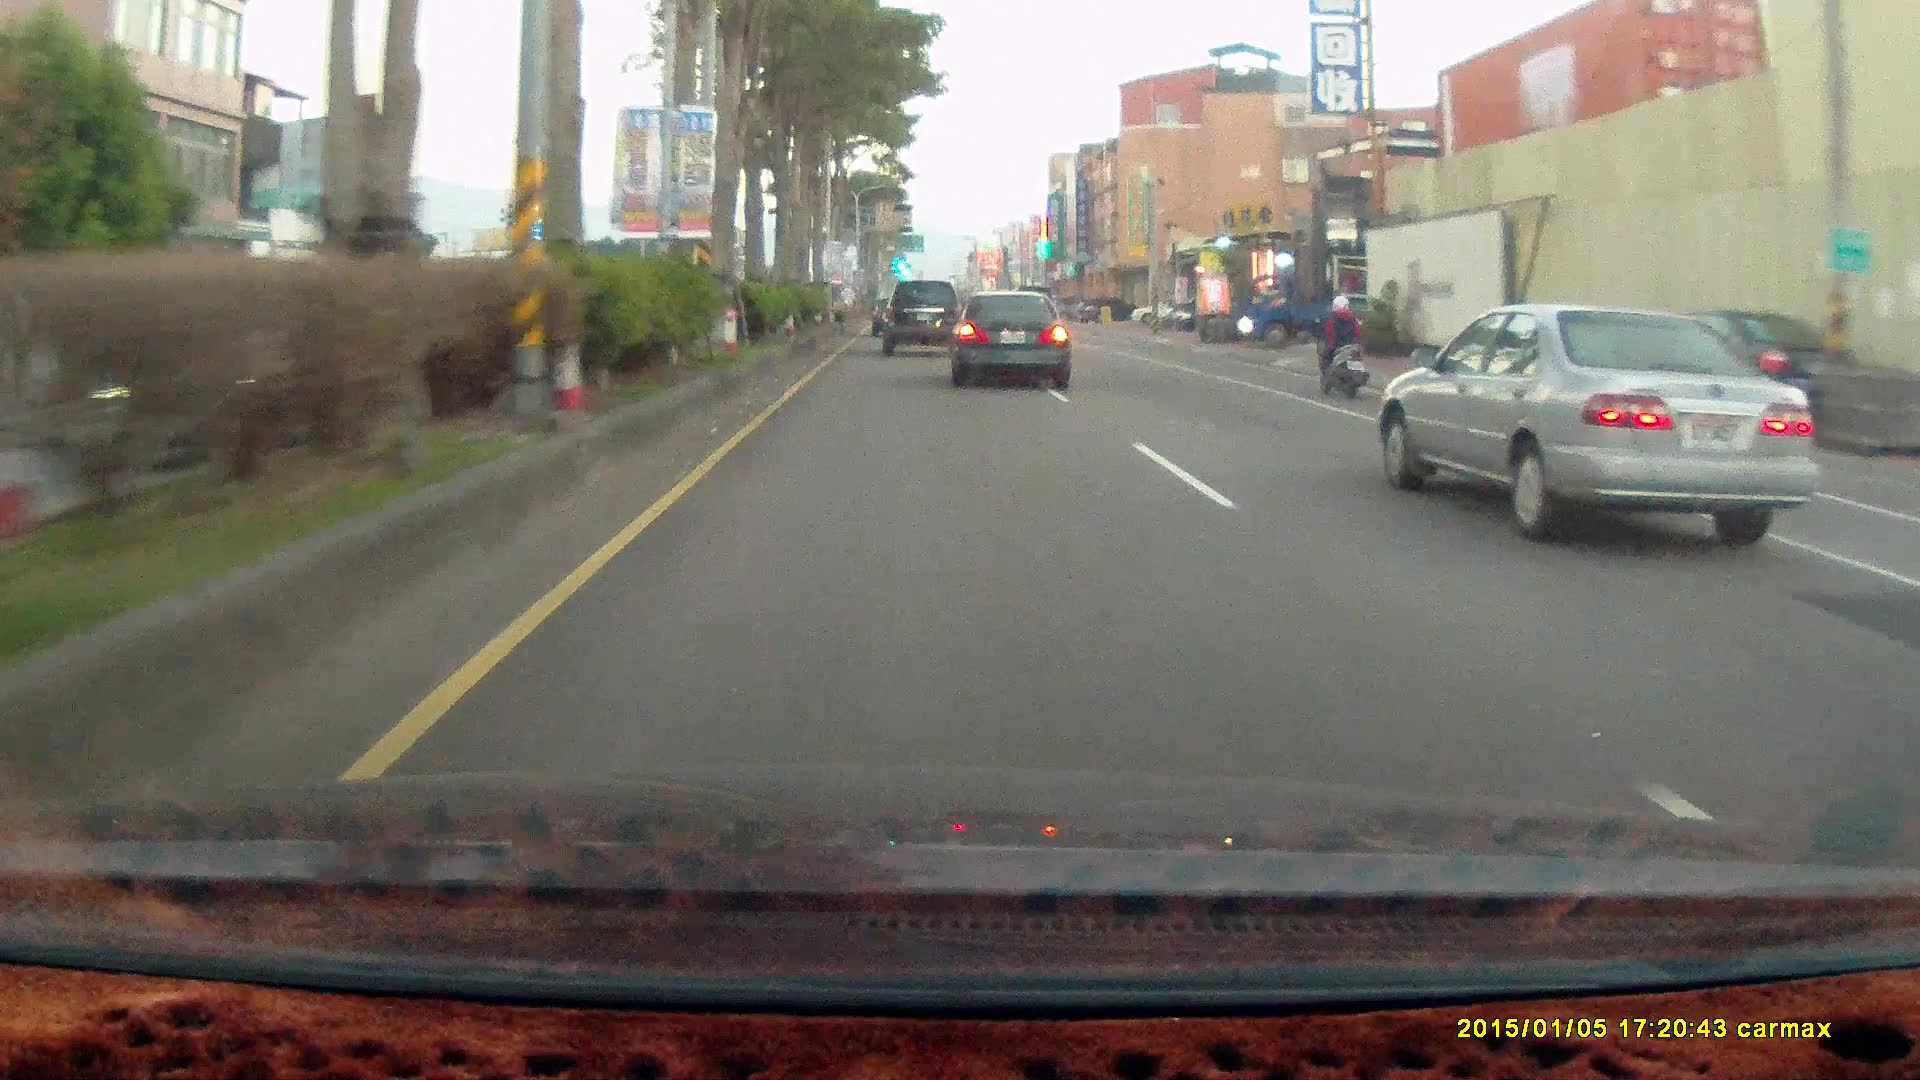rider: (1304, 285, 1379, 409), (1312, 290, 1372, 402)
vehicle: (1373, 299, 1816, 549), (1384, 300, 1820, 540), (951, 292, 1077, 391), (947, 289, 1070, 390), (1236, 273, 1381, 349), (1236, 267, 1376, 343), (878, 282, 961, 353), (882, 279, 961, 353), (1127, 297, 1186, 323), (1077, 297, 1136, 321)
